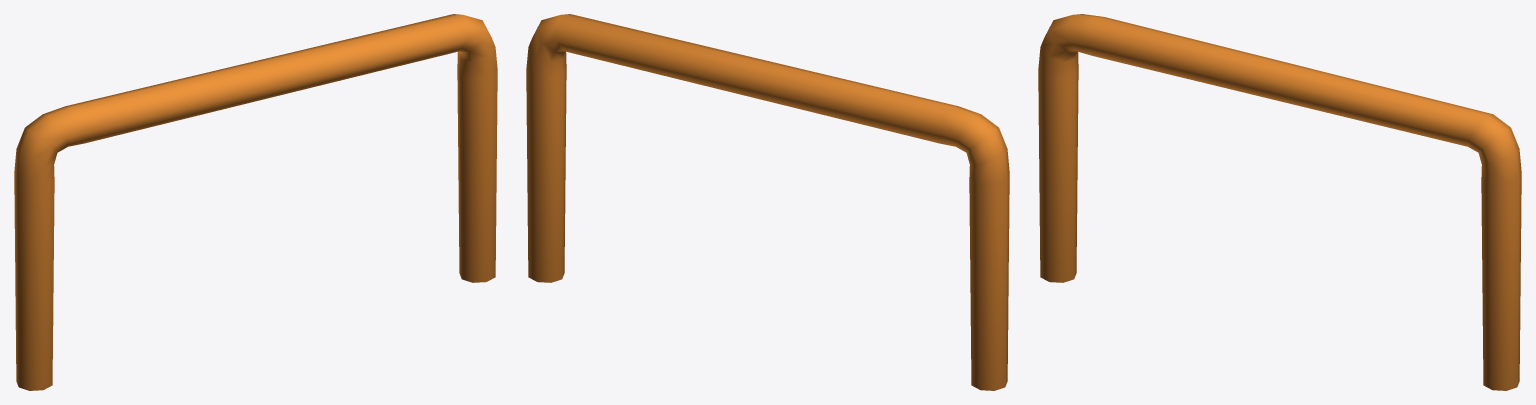
Rendered from Gates.fbx.
The picture shows the model from 3 angles, left to right: view 1: azimuth 30°, elevation 25°; view 2: azimuth 150°, elevation 25°; view 3: azimuth 330°, elevation 25°; orthographic projection.
Visible parts, largest first — view 1: Plane.035; view 2: Plane.035; view 3: Plane.035.
Boxes of the visible parts, x1,y1,x2,y2 form: Plane.035: (14,14,497,390); Plane.035: (526,14,1009,390); Plane.035: (1038,14,1521,390).
Size of the model in its own units: 950 by 508 by 73.58.
